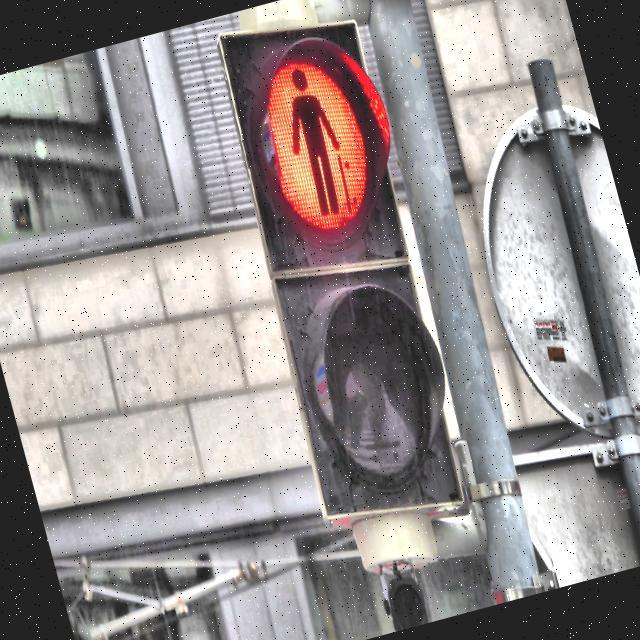red_light: (269, 56, 364, 230)
